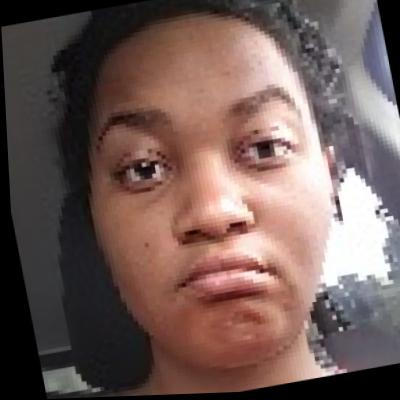sad: (78, 24, 341, 375)
